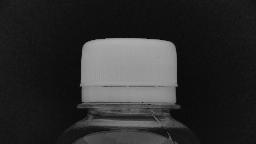Good Cap: (74, 35, 184, 113)
